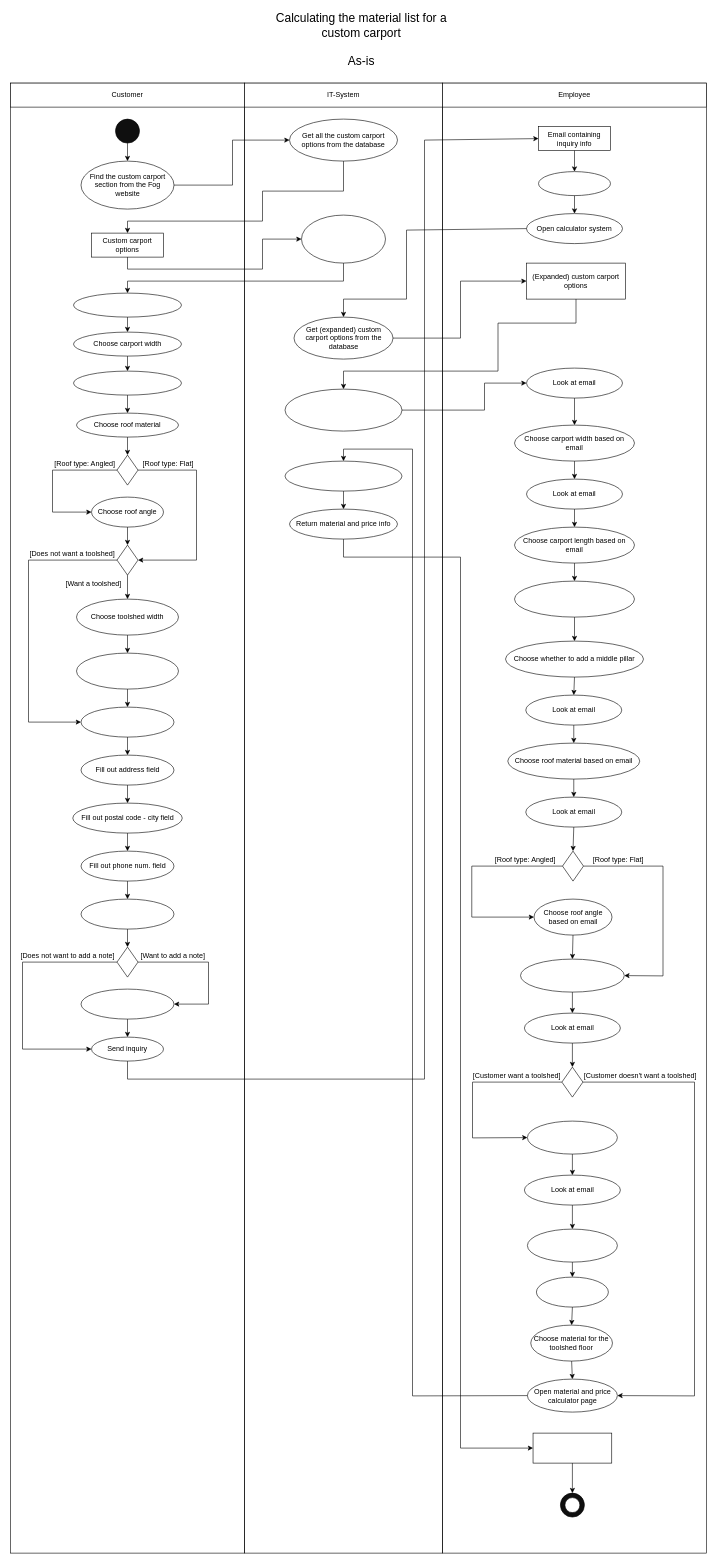
Some shapes in this 717 by 1564 pixel diagram are drawn without their labels. Each missing label, with the centre of its shape:
Calculate material and price: [343,475]
Choose carport height: [574,598]
Choose carport length: [127,382]
Choose roof type: [127,304]
Choose space between rafters: [572,975]
Choose toolshed cladding: [572,1291]
Choose toolshed length: [127,670]
Choose toolshed length based on email: [572,1245]
Choose toolshed width based on email: [572,1137]
Fill out email field: [127,913]
Fill out name field: [127,721]
Fill out note field: [127,1003]
Material list and price info: [572,1447]
Open email: [574,183]
Show (expanded) custom carport options on the admin page: [343,409]
Show custom carport options on the customer page: [343,238]
